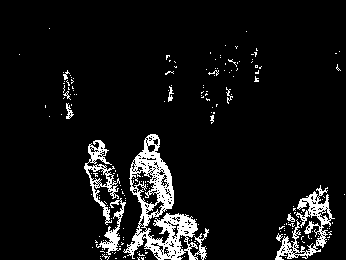person: (127, 134, 177, 260), (83, 136, 125, 260), (58, 67, 78, 121)
